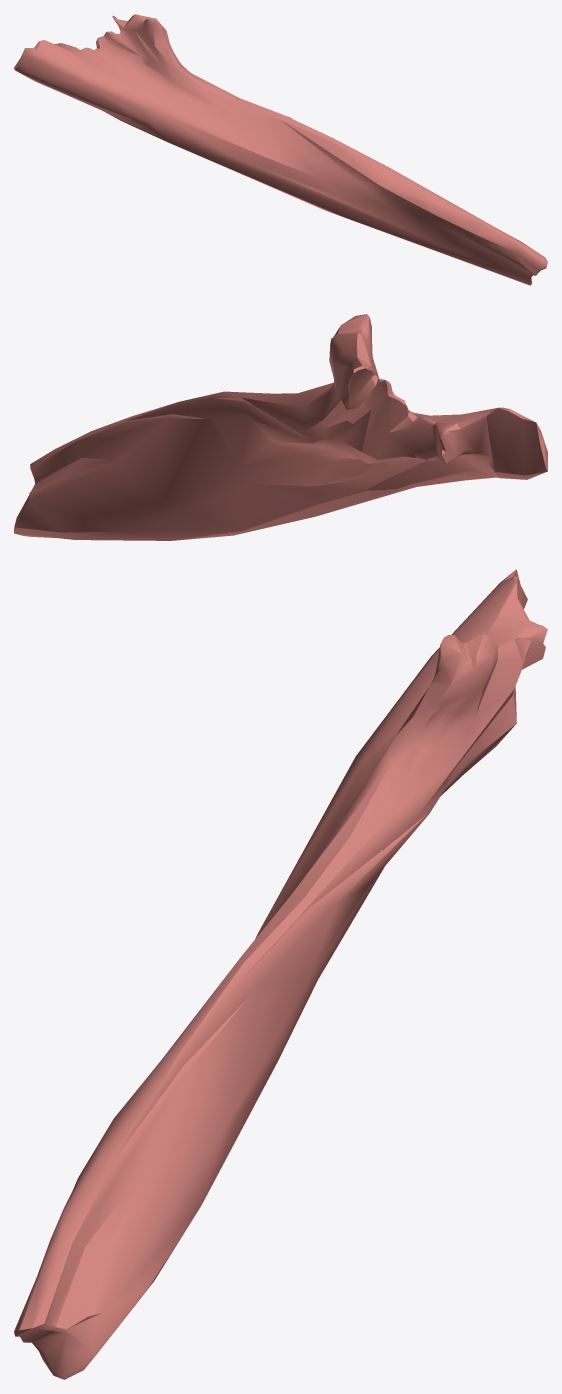
Rendered from fma46111_fj111.glb.
The picture shows the model from 3 angles, top to bottom: view 1: azimuth 30°, elevation 25°; view 2: azimuth 150°, elevation 25°; view 3: azimuth 270°, elevation 25°; orthographic projection. The views are drawn at different scales.
Visible parts, largest first — view 1: FMA46111_FJ111; view 2: FMA46111_FJ111; view 3: FMA46111_FJ111.
Boxes of the visible parts, <box> form: FMA46111_FJ111: <box>14,14,547,285</box>; FMA46111_FJ111: <box>14,314,547,540</box>; FMA46111_FJ111: <box>14,569,547,1379</box>.
Bounding box in the file's own units: 0.0445 × 0.0274 × 0.0273.
